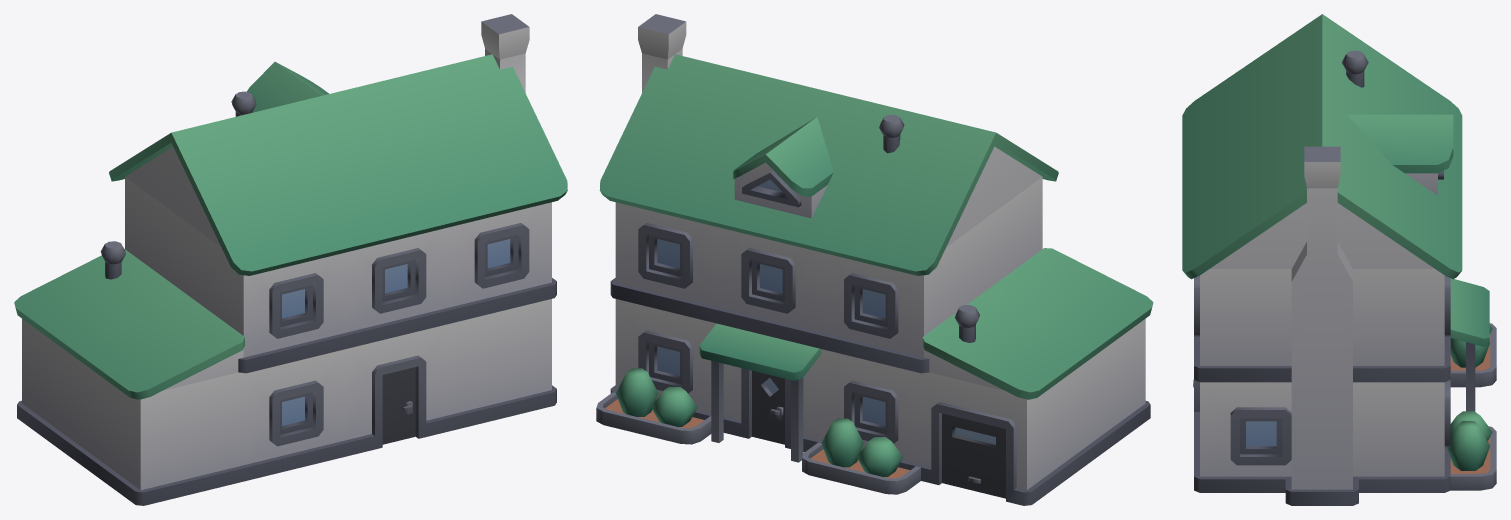
File: house-02.glb
3 views of the same model, side by side, from view 1: azimuth 30°, elevation 25°; view 2: azimuth 150°, elevation 25°; view 3: azimuth 270°, elevation 25° (orthographic). The views are drawn at different scales.
Parts seen in each view (by area): view 1: house-02; view 2: house-02; view 3: house-02.
Part boxes in pixels (x1,y1,x2,y2): house-02: (14, 14, 567, 505); house-02: (596, 14, 1153, 505); house-02: (1182, 14, 1496, 505).
Size of the model in its own units: 1 by 0.7046 by 0.5853.
